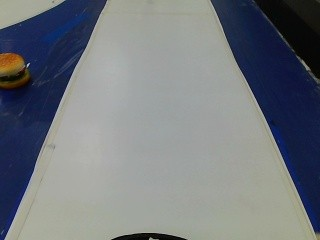burger: (0, 49, 31, 94)
